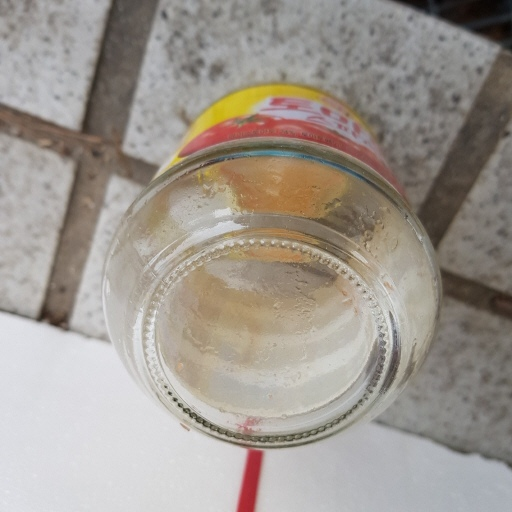Glass_5: (94, 78, 444, 453)
